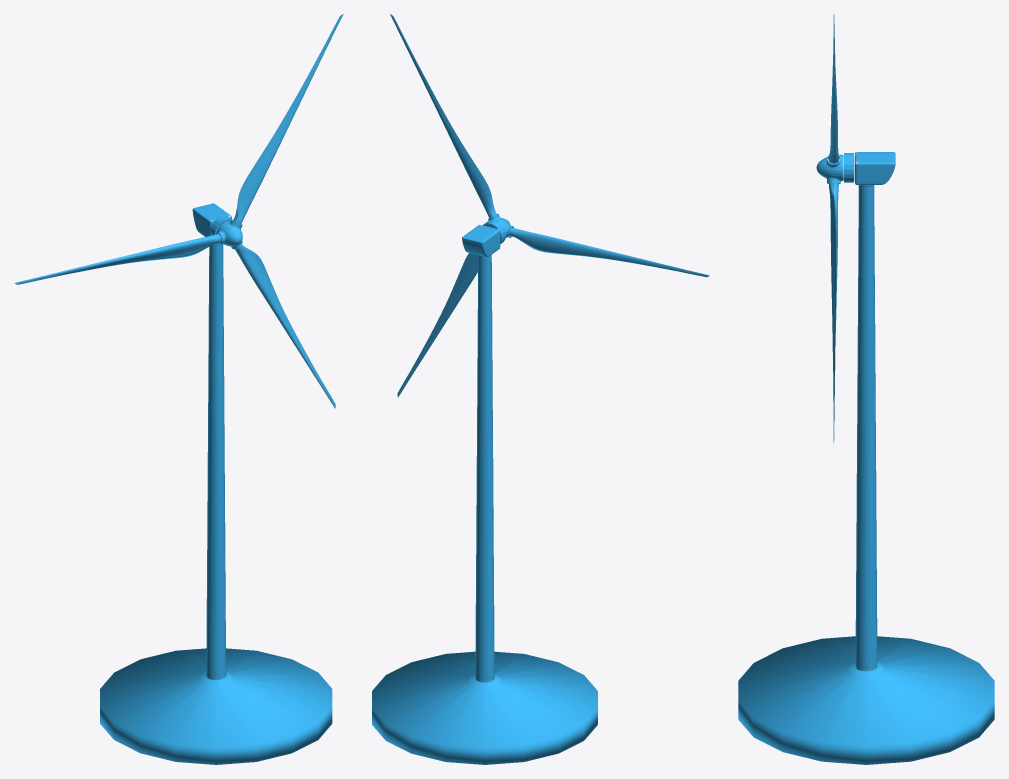
The model's file is zhiqu_xiankuang.glb.
The picture shows the model from 3 angles, left to right: view 1: azimuth 30°, elevation 25°; view 2: azimuth 150°, elevation 25°; view 3: azimuth 270°, elevation 25°; orthographic projection. The views are drawn at different scales.
Parts seen in each view (by area): view 1: xiankuang_jichu, xiankuang_tatong, xiankuang_yelun, xiankuang_jicang; view 2: xiankuang_jichu, xiankuang_tatong, xiankuang_yelun, xiankuang_jicang; view 3: xiankuang_jichu, xiankuang_tatong, xiankuang_yelun, xiankuang_jicang.
Part boxes in pixels (x1,y1,x2,y2): xiankuang_jichu: [100, 648, 332, 764]; xiankuang_tatong: [206, 243, 226, 680]; xiankuang_yelun: [14, 14, 343, 408]; xiankuang_jicang: [192, 203, 231, 236]; xiankuang_jichu: [372, 651, 597, 764]; xiankuang_tatong: [475, 255, 494, 682]; xiankuang_yelun: [390, 14, 709, 397]; xiankuang_jicang: [462, 225, 500, 256]; xiankuang_jichu: [738, 636, 994, 764]; xiankuang_tatong: [855, 185, 877, 671]; xiankuang_yelun: [816, 14, 843, 443]; xiankuang_jicang: [854, 152, 895, 184].
Bounding box in the file's own units: 7032 × 13979 × 4298.
Materials: 1 (1 with a texture image).
